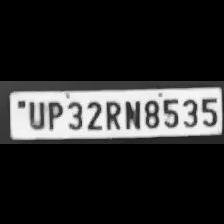2: (84, 97, 104, 129)
3: (63, 97, 83, 129), (180, 94, 198, 126)
5: (160, 93, 180, 126), (198, 93, 218, 126)
8: (140, 96, 160, 128)
N: (122, 96, 142, 128)
P: (44, 97, 64, 129)
R: (102, 97, 122, 129)
U: (23, 98, 44, 128)
